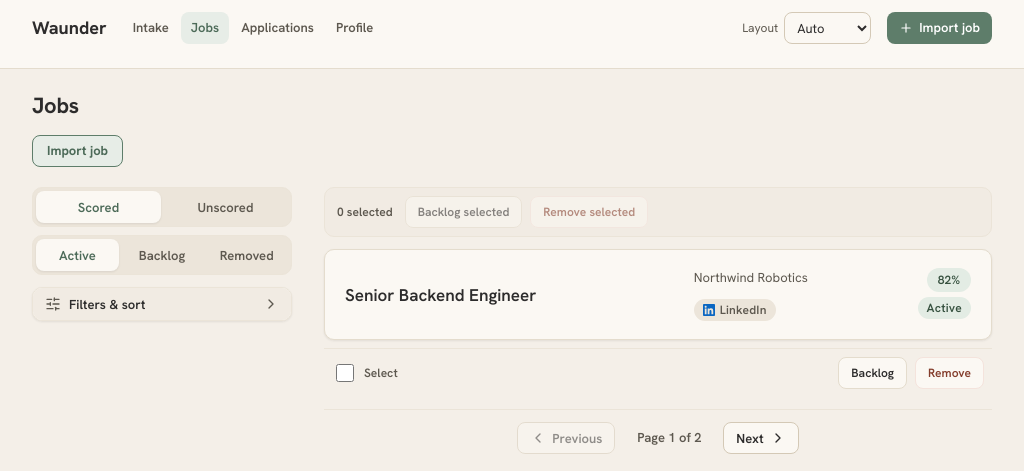
Test case: pagination › steps back to the previous page
The width and height of the screenshot is (1024, 471).
Expected: the list is shown, [324,250,992,389]
Click the button "Next": {"x": 761, "y": 438} [723,422,799,454]
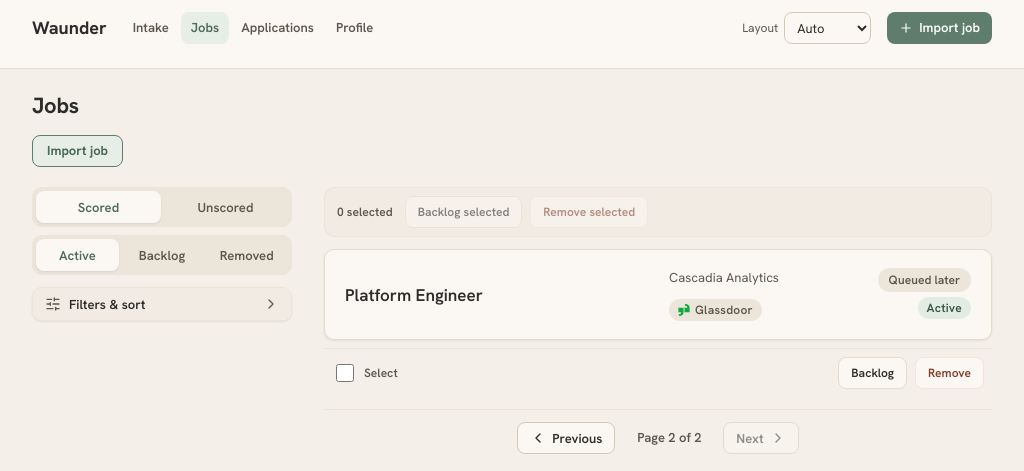
Result: the text "Page 2 of 2" is shown at [637,429,702,446]
Click the button "Previous": {"x": 566, "y": 438} [517,422,615,454]
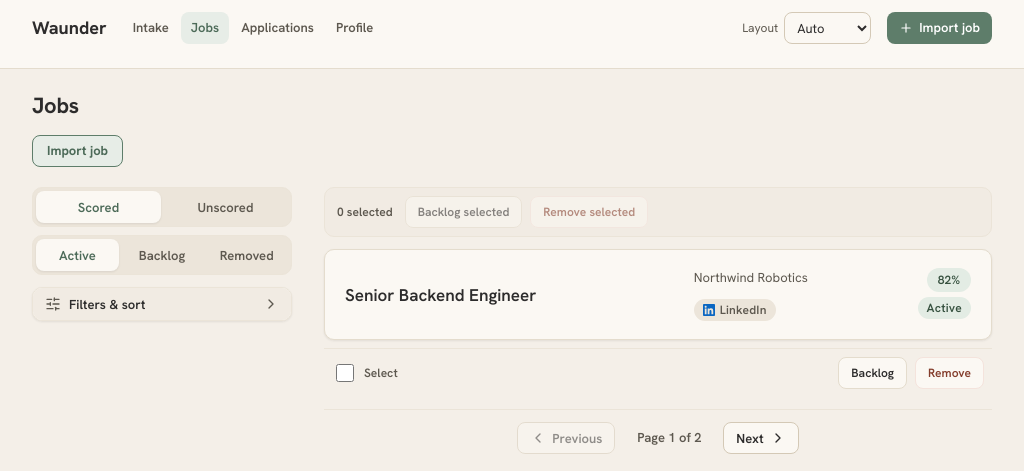
Result: the text "Page 1 of 2" is shown at [637,429,702,446]
Result: the text "Senior Backend Engineer" is shown at [345,284,536,306]
